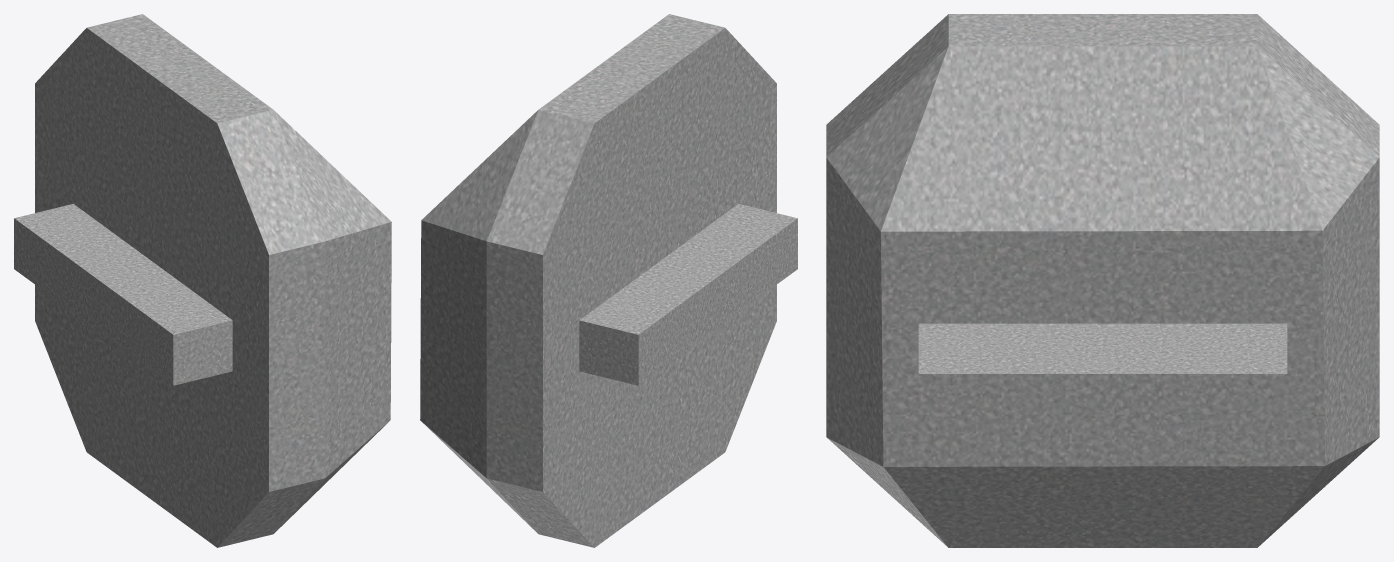
Rendered from KEES_PEC_Anchor.fbx.
The picture shows the model from 3 angles, left to right: view 1: azimuth 30°, elevation 25°; view 2: azimuth 150°, elevation 25°; view 3: azimuth 270°, elevation 25°; orthographic projection. The views are drawn at different scales.
Parts seen in each view (by area): view 1: KEES_PEC_Anchor; view 2: KEES_PEC_Anchor; view 3: KEES_PEC_Anchor.
Boxes of the visible parts, bbox=[...] form: KEES_PEC_Anchor: bbox=[14, 14, 391, 547]; KEES_PEC_Anchor: bbox=[420, 14, 797, 547]; KEES_PEC_Anchor: bbox=[826, 14, 1379, 547].
Bounding box in the file's own units: 0.3017 × 0.6 × 0.6.
